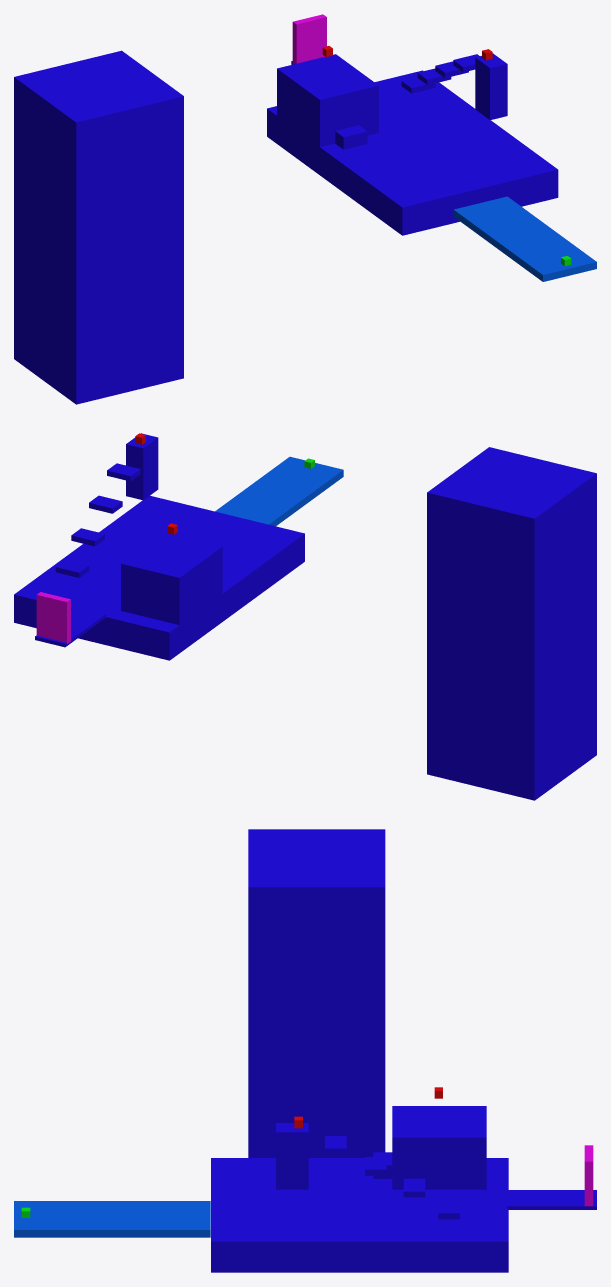
The model's file is level_one.fbx.
The picture shows the model from 3 angles, top to bottom: view 1: azimuth 30°, elevation 25°; view 2: azimuth 150°, elevation 25°; view 3: azimuth 270°, elevation 25°; orthographic projection. The views are drawn at different scales.
Parts seen in each view (by area): view 1: CubeBigBoy, Cube.001, Cube.002, Cube, Cube.004, ExitDoor, Cube.003; view 2: CubeBigBoy, Cube.001, Cube.002, Cube, Cube.004, ExitDoor, CubeExit_1; view 3: CubeBigBoy, Cube.001, Cube.002, Cube, Cube.004, CubeExit_1, ExitDoor.
Part boxes in pixels (x1,y1,x2,y2): CubeBigBoy: (14, 50, 183, 404); Cube.001: (267, 70, 558, 235); Cube.002: (277, 54, 378, 150); Cube: (453, 196, 596, 281); Cube.004: (475, 53, 507, 120); ExitDoor: (292, 14, 326, 64); Cube.003: (335, 125, 367, 149); CubeBigBoy: (427, 447, 596, 800); Cube.001: (14, 495, 304, 660); Cube.002: (121, 532, 222, 628); Cube: (215, 456, 343, 526); Cube.004: (126, 433, 158, 500); ExitDoor: (36, 592, 70, 643); CubeExit_1: (35, 606, 106, 647); CubeBigBoy: (248, 829, 385, 1157); Cube.001: (211, 1158, 508, 1272); Cube.002: (392, 1106, 486, 1189); Cube: (14, 1201, 210, 1237); Cube.004: (276, 1123, 308, 1189); CubeExit_1: (507, 1190, 596, 1209); ExitDoor: (584, 1145, 593, 1206).
Bounding box in the file's own units: 3450 × 2000 × 3408.
